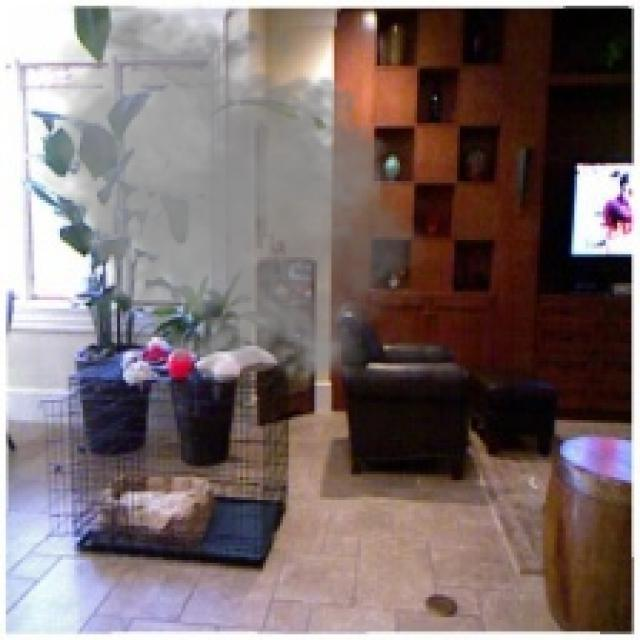Smoke: (34, 0, 440, 392)
